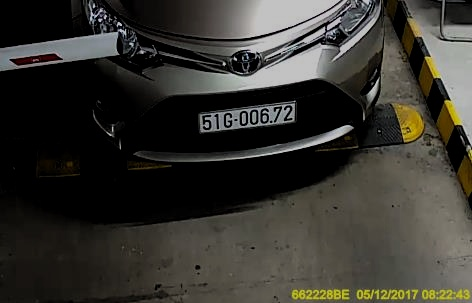plate: (197, 101, 299, 130)
